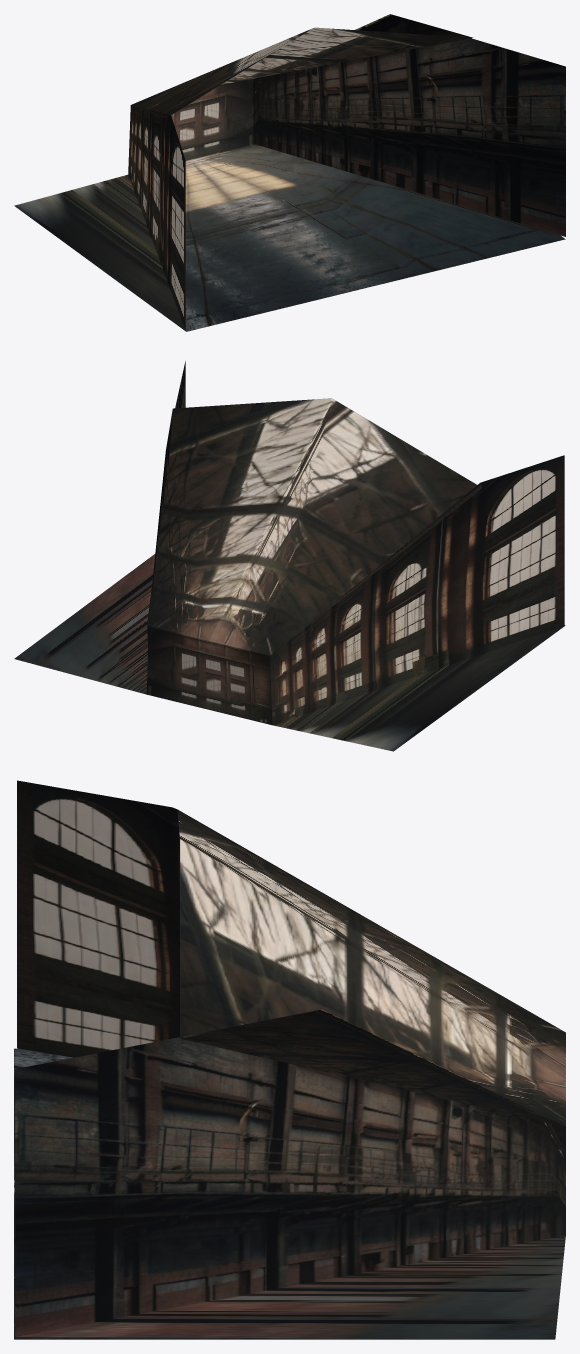
File: Menu Demo_02.fbx
3 renders of one model, top to bottom at view 1: azimuth 30°, elevation 25°; view 2: azimuth 150°, elevation 25°; view 3: azimuth 270°, elevation 25°, orthographic. The views are drawn at different scales.
Parts seen in each view (by area): view 1: Plane.003; view 2: Plane.003; view 3: Plane.003.
Boxes of the visible parts, <box> form: Plane.003: <box>14,14,565,331</box>; Plane.003: <box>14,361,565,751</box>; Plane.003: <box>14,780,565,1339</box>.
Size of the model in its own units: 3501 by 1951 by 2805.
